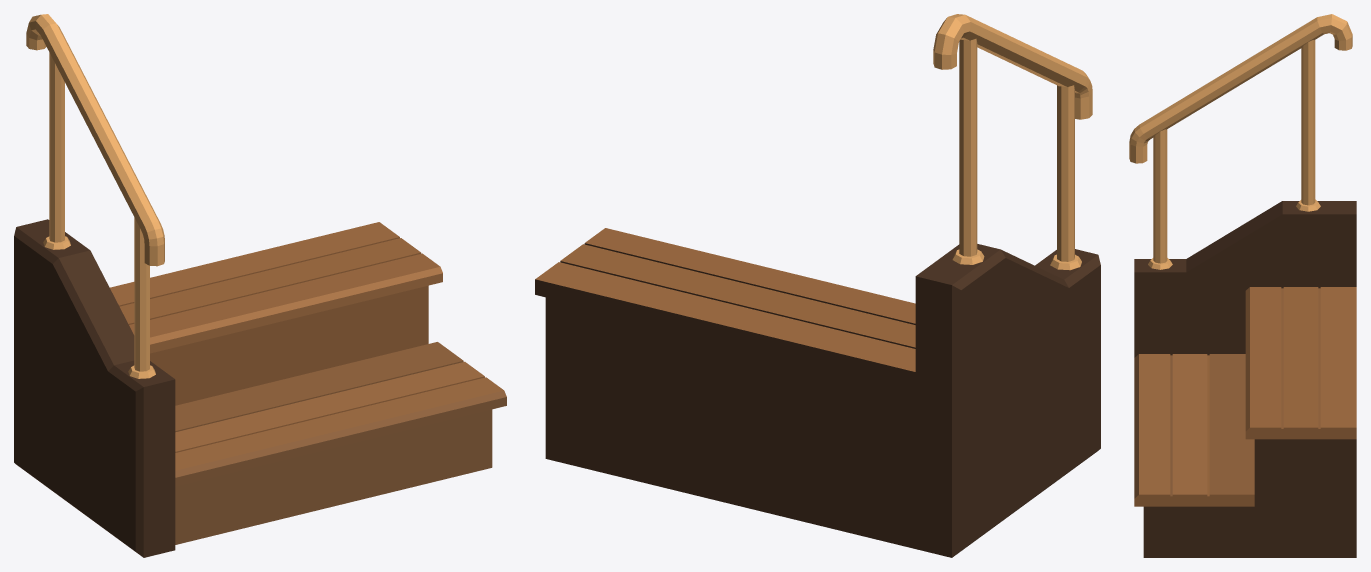
The model's file is stage-stair-unit-63da58.glb.
The picture shows the model from 3 angles, left to right: view 1: azimuth 30°, elevation 25°; view 2: azimuth 150°, elevation 25°; view 3: azimuth 270°, elevation 25°; orthographic projection. The views are drawn at different scales.
Visible parts, largest first — view 1: stair-body, brass-rail; view 2: stair-body, brass-rail; view 3: stair-body, brass-rail.
Boxes of the visible parts, x1,y1,x2,y2 form: stair-body: (14, 219, 506, 557); brass-rail: (26, 14, 164, 378); stair-body: (535, 228, 1100, 557); brass-rail: (933, 14, 1092, 270); stair-body: (1134, 201, 1356, 557); brass-rail: (1129, 14, 1352, 269).
Size of the model in its own units: 1 by 1.19 by 0.6136.
